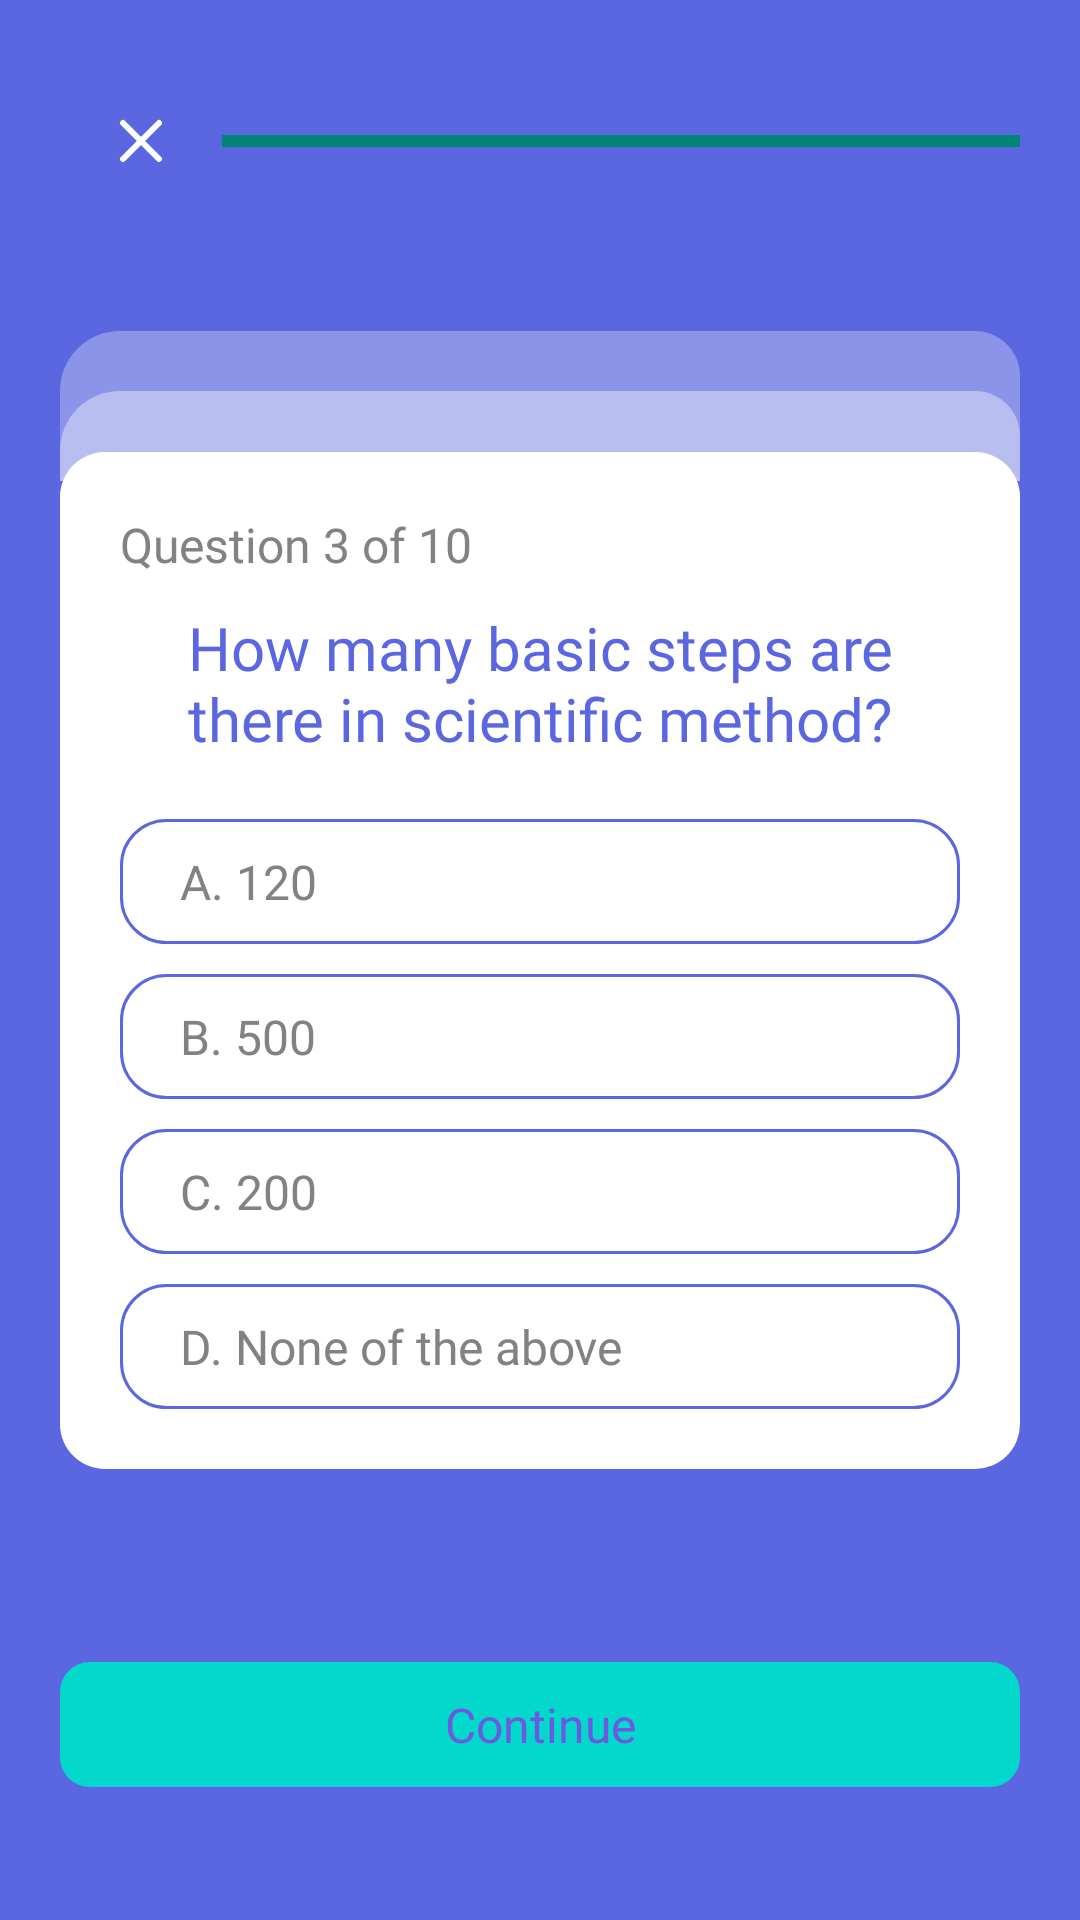

Icons on this 1080 × 1920 Android screen, each with the point to tap as [x,y]:
cross: [141,141]
